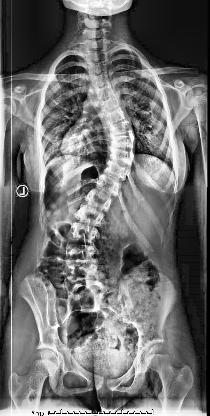Vertebrae: (66, 221, 100, 245), (84, 188, 114, 212), (74, 204, 106, 226), (106, 147, 136, 168), (94, 173, 121, 196), (103, 160, 131, 182), (63, 258, 100, 274), (102, 119, 134, 137), (95, 94, 121, 116), (100, 107, 130, 126), (106, 134, 136, 152), (66, 242, 98, 258), (92, 82, 116, 102), (89, 71, 111, 89), (84, 50, 110, 62), (86, 60, 108, 74)
